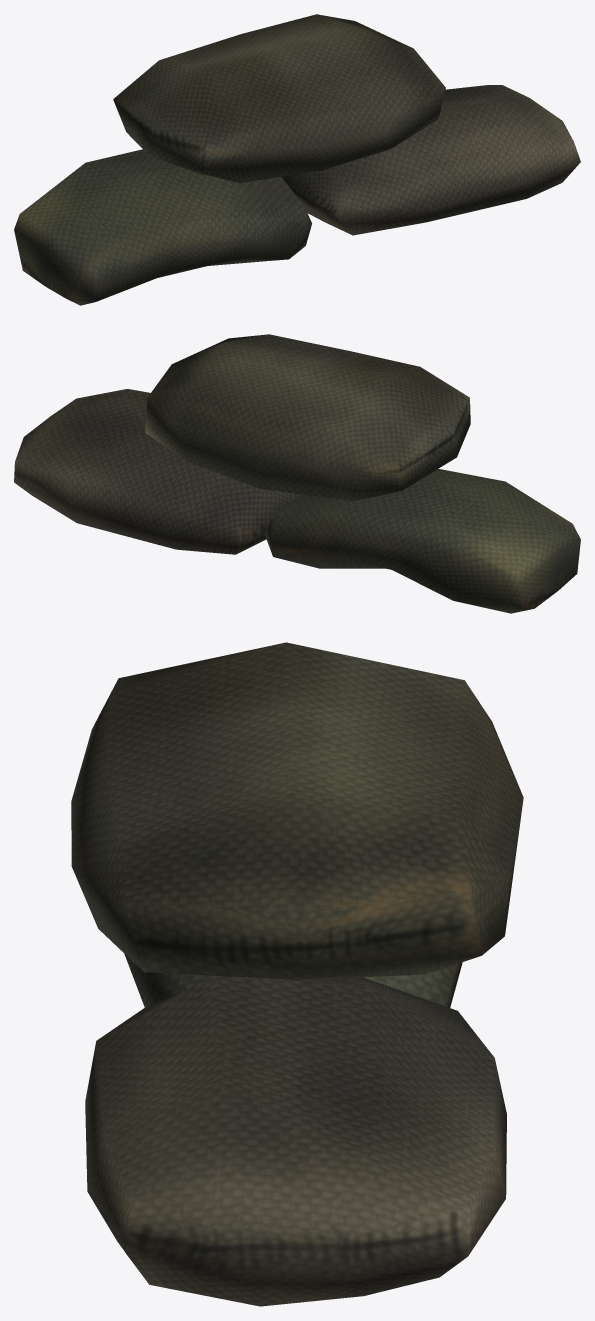
Rendered from SM_Sand_bag_2_a.FBX.
3 views of the same model, one above another, from view 1: azimuth 30°, elevation 25°; view 2: azimuth 150°, elevation 25°; view 3: azimuth 270°, elevation 25° (orthographic). The views are drawn at different scales.
Visible parts, largest first — view 1: Sand_bag_2_a; view 2: Sand_bag_2_a; view 3: Sand_bag_2_a.
Boxes of the visible parts, x1,y1,x2,y2 form: Sand_bag_2_a: (14,14,580,305); Sand_bag_2_a: (14,334,580,613); Sand_bag_2_a: (71,642,523,1306).
Bounding box in the file's own units: 115 × 43.78 × 41.7.
